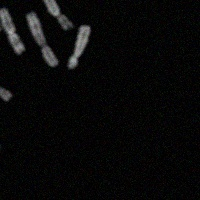chromosome: (26, 11, 58, 66), (0, 8, 24, 55), (66, 24, 89, 69), (42, 0, 73, 30), (0, 84, 12, 101)
